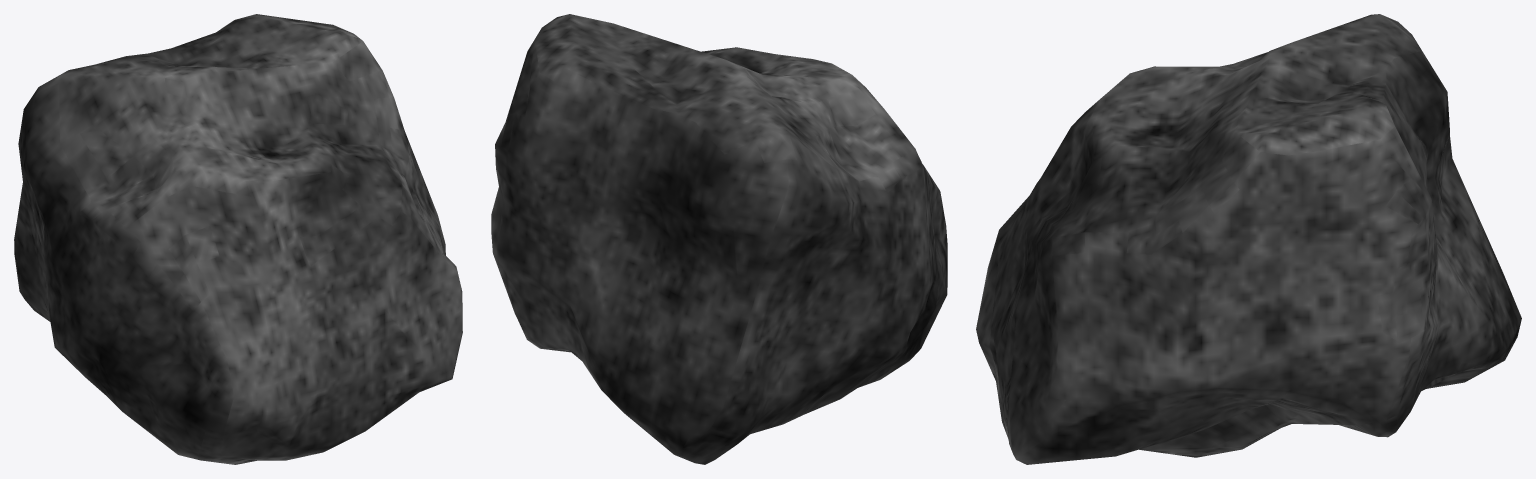
File: rock2.glb
3 views of the same model, side by side, from view 1: azimuth 30°, elevation 25°; view 2: azimuth 150°, elevation 25°; view 3: azimuth 270°, elevation 25° (orthographic). The views are drawn at different scales.
Parts seen in each view (by area): view 1: rock2_0; view 2: rock2_0; view 3: rock2_0.
Boxes of the visible parts, <box> form: rock2_0: <box>14,14,462,464</box>; rock2_0: <box>491,14,947,464</box>; rock2_0: <box>976,14,1521,464</box>.
Size of the model in its own units: 0.89 by 0.8304 by 1.
Materials: 1 (1 with a texture image).
